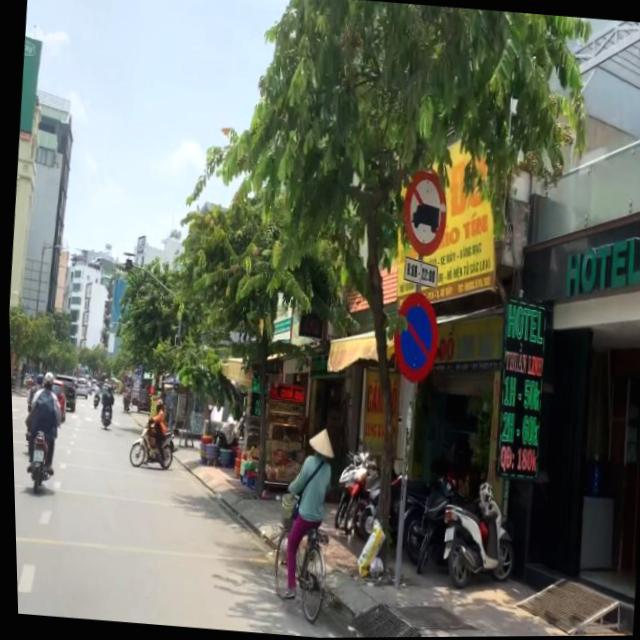Cam do xe: (386, 290, 441, 385)
Cam xe tai: (396, 166, 451, 258)
